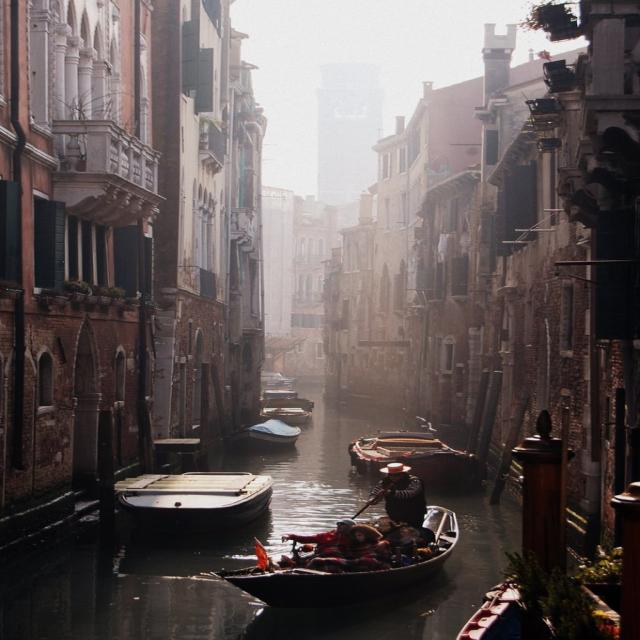Boat: (225, 499, 460, 586), (97, 461, 292, 529), (354, 428, 477, 474), (250, 394, 312, 421), (248, 418, 294, 442), (260, 374, 285, 398)
